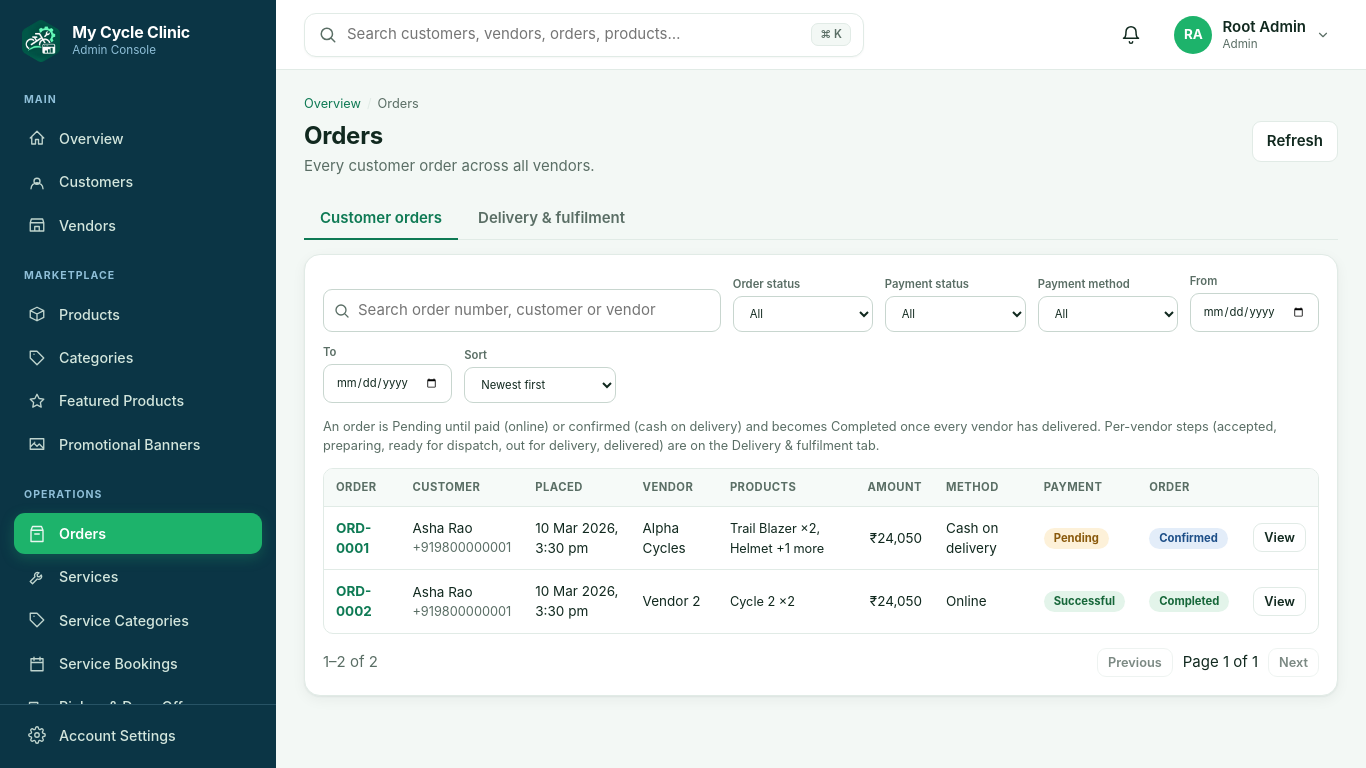
Test case: order list › the Delivery & fulfilment tab opens the fulfilment overview
The width and height of the screenshot is (1366, 768).
Expected: the text "ORD-0001" is shown, top-left (336, 520), bottom-right (371, 556)
Click the tab "Delivery & fulfilment": x=552, y=219 top-left (462, 198), bottom-right (641, 240)
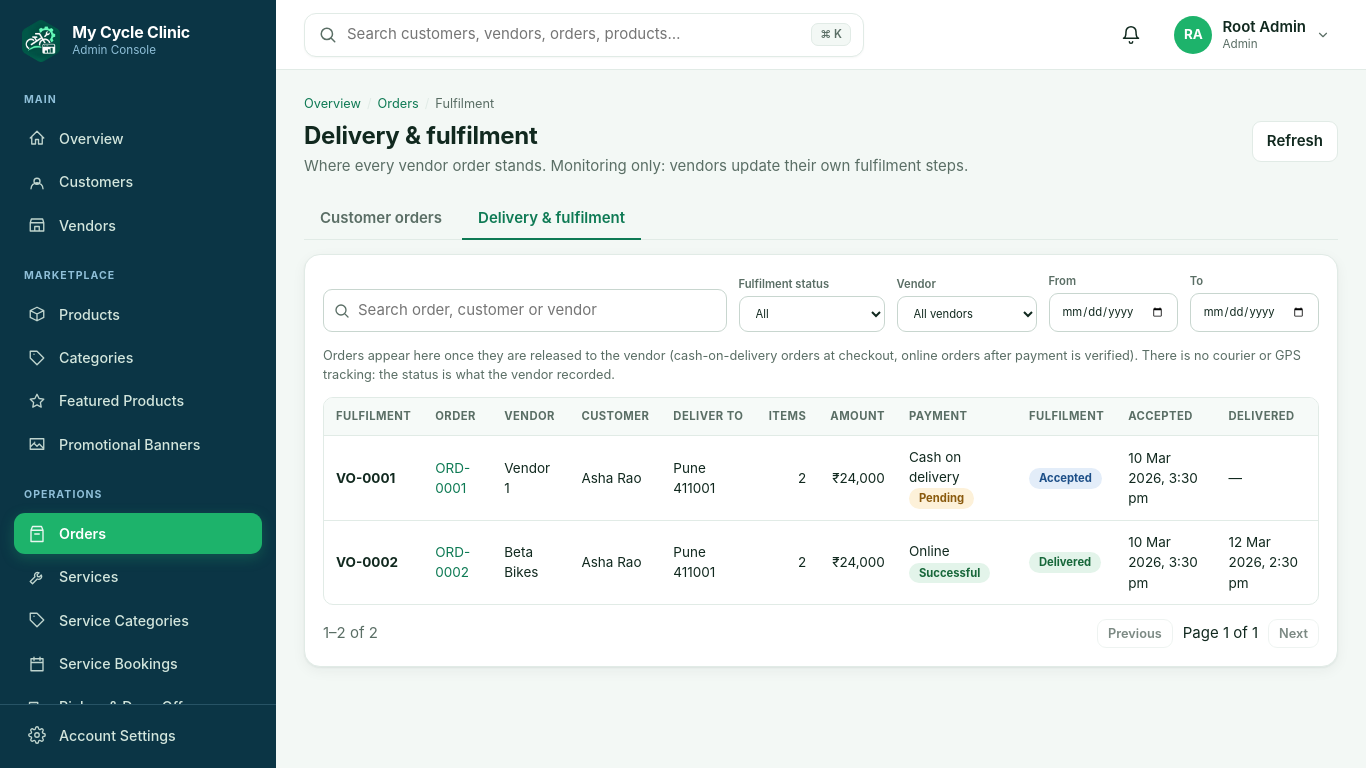
Expected: the heading "Delivery & fulfilment" is shown, top-left (304, 121), bottom-right (538, 150)
Expected: the text "Vendor 1" is shown, top-left (492, 436), bottom-right (569, 521)
Expected: the text "Pune 411001" in the row of "VO-0001" is shown, top-left (673, 460), bottom-right (715, 496)
